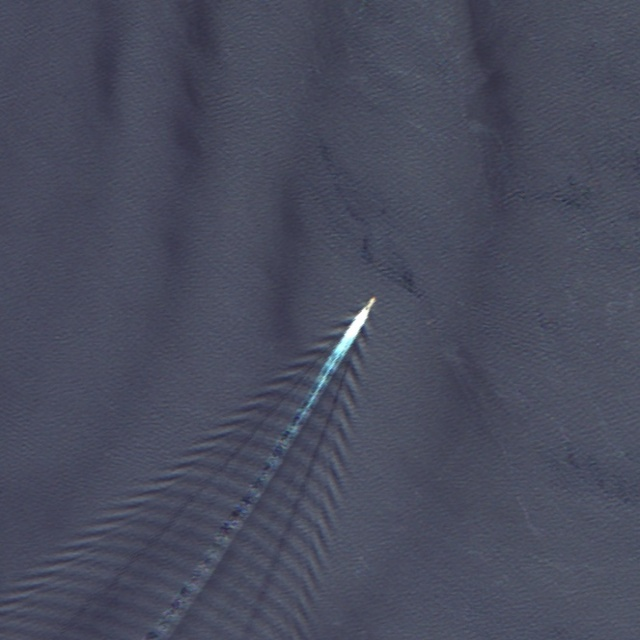wake: (162, 253, 453, 587)
